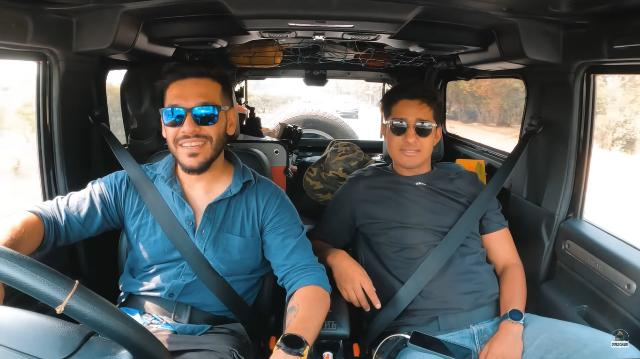seatbelt: (357, 119, 541, 357), (94, 118, 266, 350)
